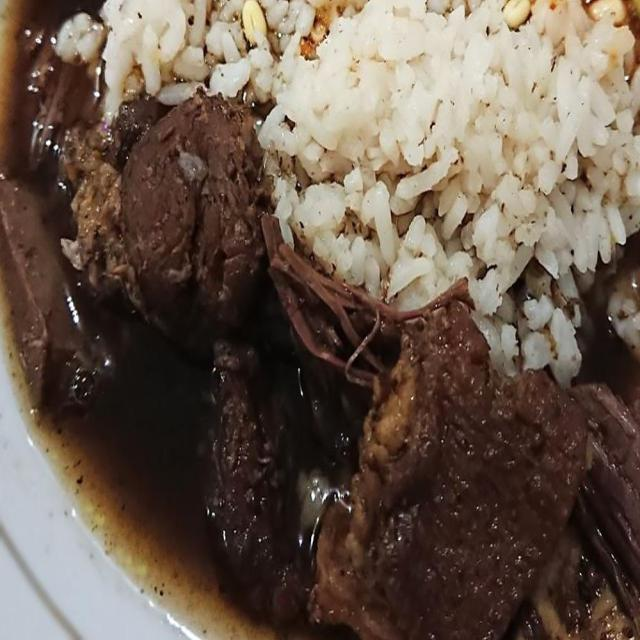Rawon: (10, 22, 624, 633)
